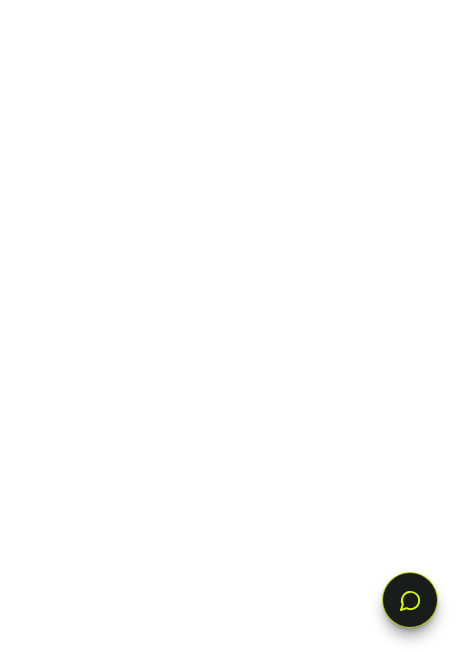
Pratham AI voice playback › requests a Blob, creates an Audio object, and plays returned TTS audio
The image size is (462, 652).
Step 1. Click the button named "Open Pratham AI chat" → [410, 600], box [382,572,438,628]
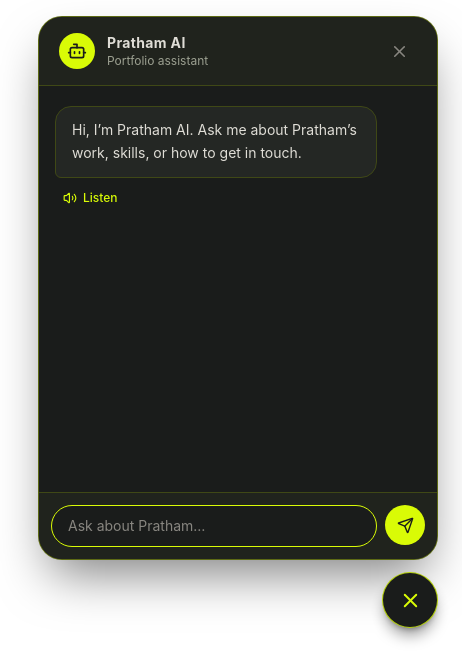
Step 2. Click the button "Listen" → [90, 198], box [55,186,126,210]
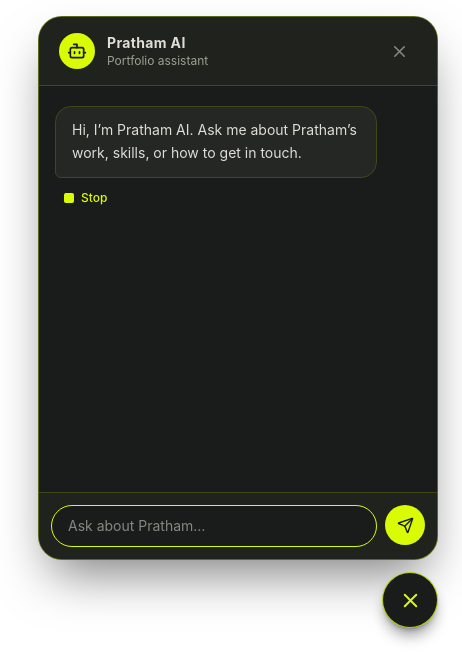
Expected: the text "Stop" is shown, [55,186,115,210]
